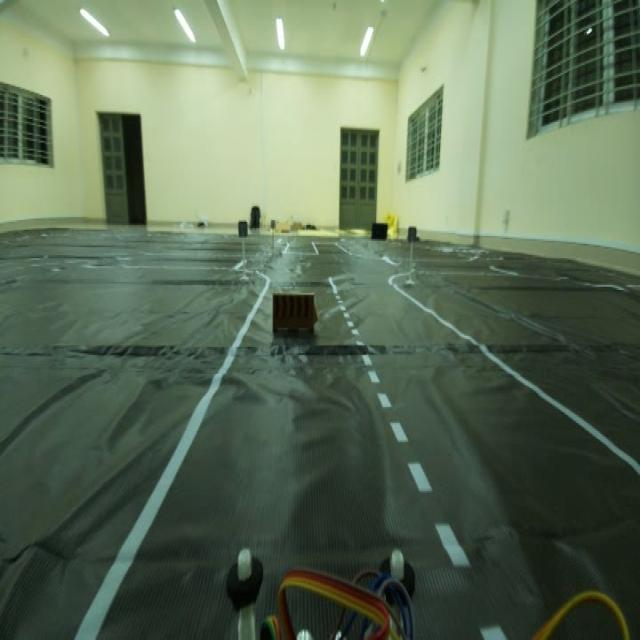roadblock: (268, 285, 324, 345)
